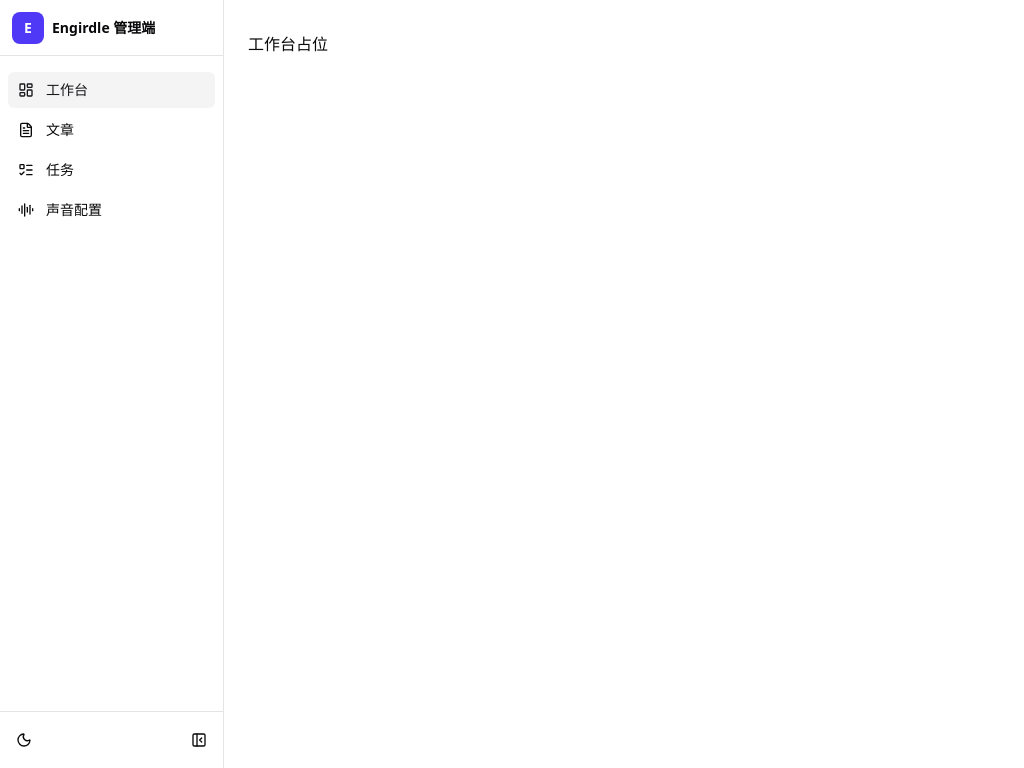
Test: AppShell › 底部主题切换按钮联动 ThemeProvider
What coordinates should you click on to do the following:
click the button named "切换到暗色主题"
I would click on:
 (24, 740)
Its box is [8, 724, 40, 756].
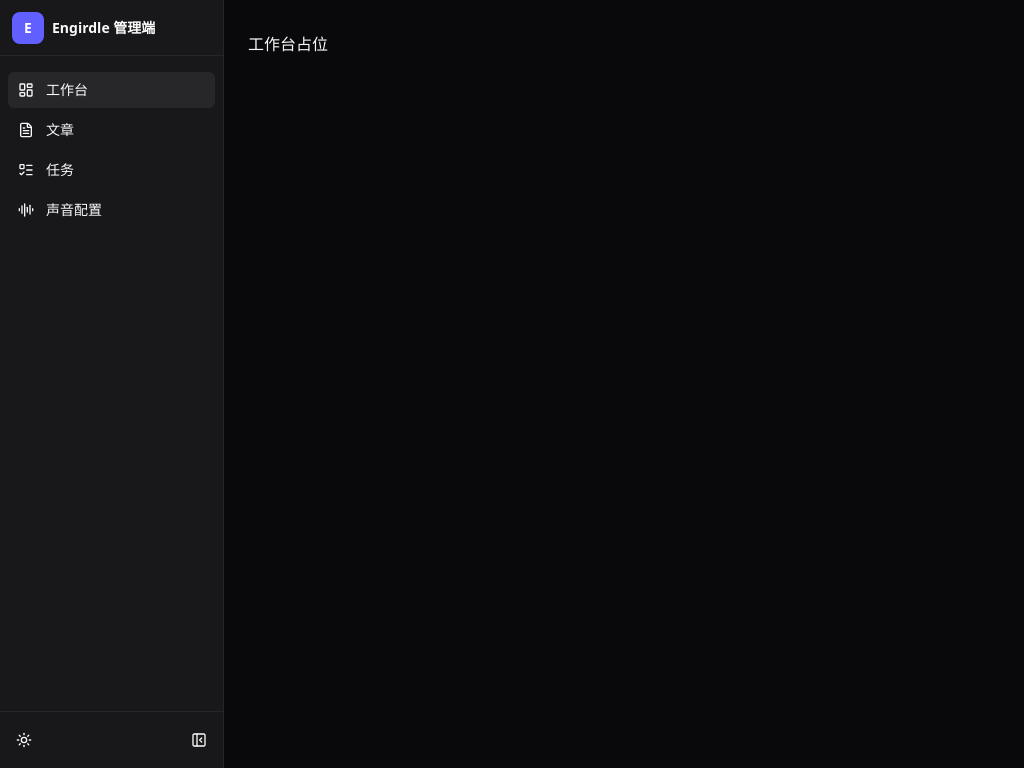
Expected: the button named "切换到亮色主题" is shown, [8, 724, 40, 756]
